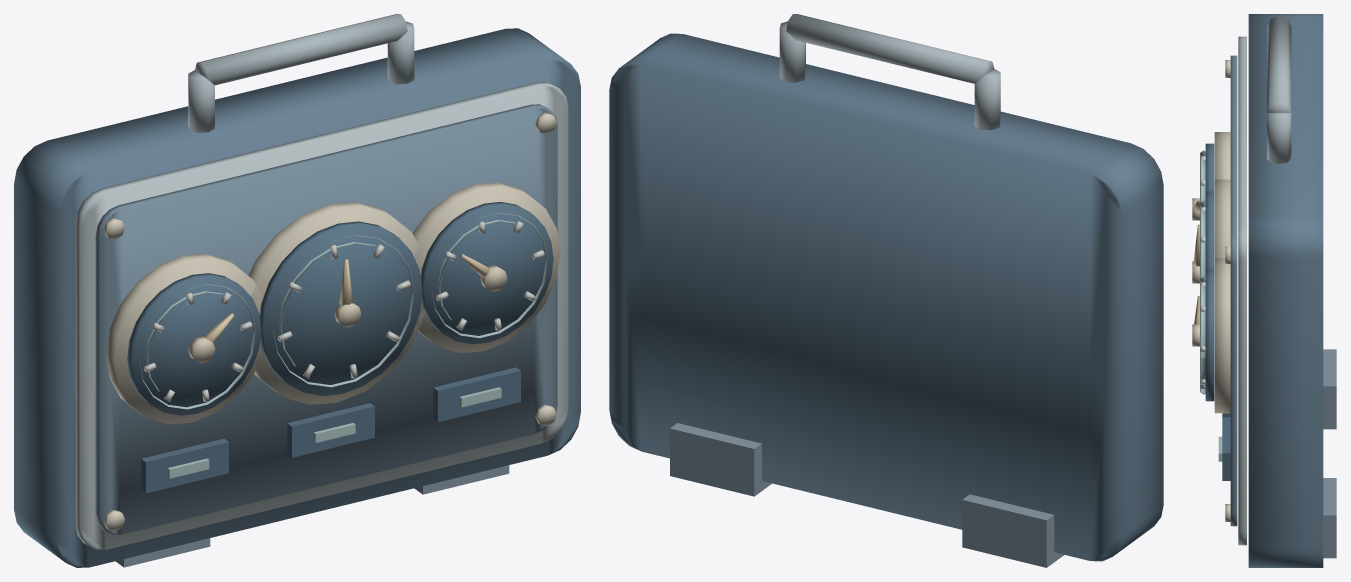
File: ART-54.glb
The picture shows the model from 3 angles, left to right: view 1: azimuth 30°, elevation 25°; view 2: azimuth 150°, elevation 25°; view 3: azimuth 270°, elevation 25°; orthographic projection. The views are drawn at different scales.
Visible parts, largest first — view 1: world; view 2: world; view 3: world.
Part boxes in pixels (<box>): world: <box>14,14,580,567</box>; world: <box>609,14,1163,567</box>; world: <box>1192,14,1336,567</box>.
Bounding box in the file's own units: 2 × 1.72 × 0.5399.
